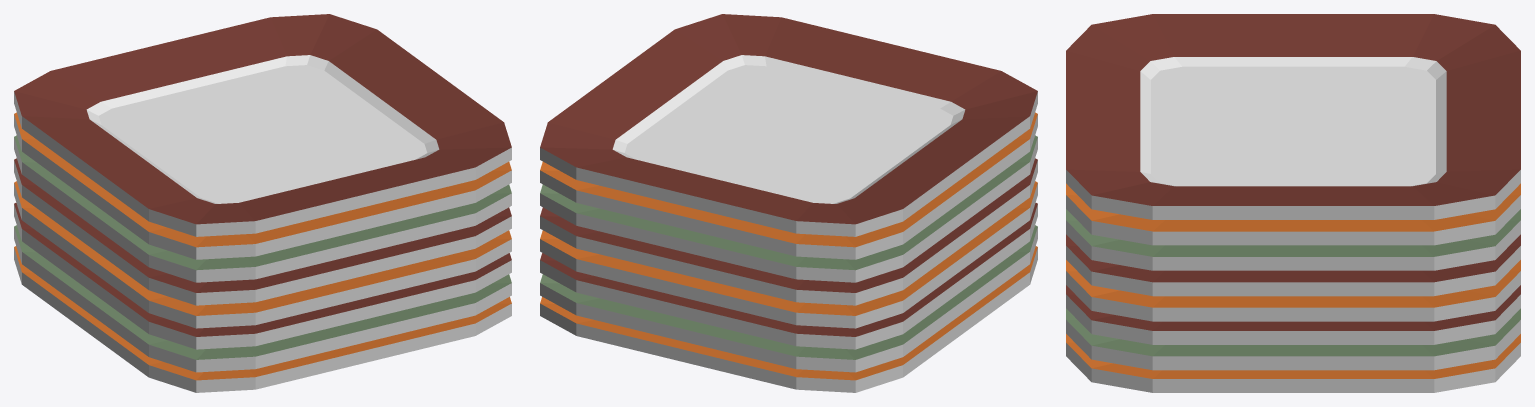
Rendered from R_Plates_Dish.fbx.
The picture shows the model from 3 angles, left to right: view 1: azimuth 30°, elevation 25°; view 2: azimuth 150°, elevation 25°; view 3: azimuth 270°, elevation 25°; orthographic projection. The views are drawn at different scales.
Visible parts, largest first — view 1: R_Plates_Dish; view 2: R_Plates_Dish; view 3: R_Plates_Dish.
Part boxes in pixels (x1=…): R_Plates_Dish: x1=14, y1=14, x2=511, y2=392; R_Plates_Dish: x1=540, y1=14, x2=1037, y2=392; R_Plates_Dish: x1=1066, y1=14, x2=1520, y2=392.
Bounding box in the file's own units: 200 × 200 × 101.
